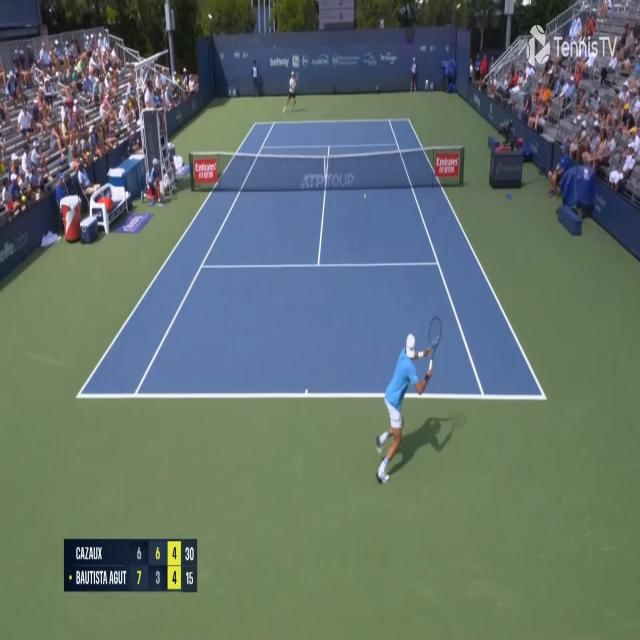tennis-player: (373, 315, 444, 490), (284, 69, 299, 112)
